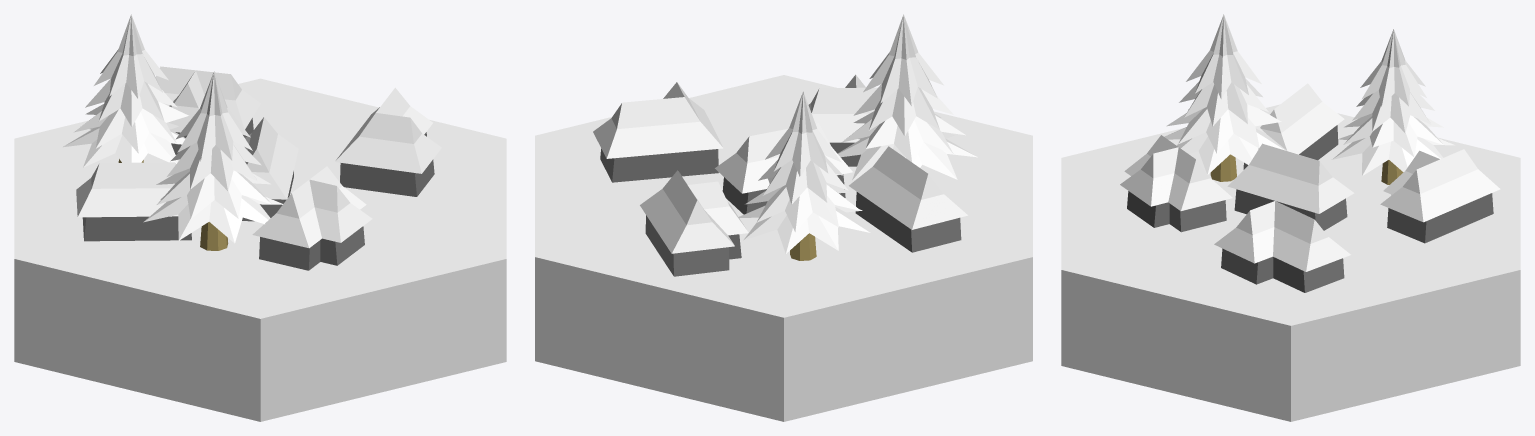
The model's file is Casas_Bosque_Pinos_Nieve_5.fbx.
3 renders of one model, left to right at view 1: azimuth 30°, elevation 25°; view 2: azimuth 150°, elevation 25°; view 3: azimuth 270°, elevation 25°, orthographic. The views are drawn at different scales.
Parts seen in each view (by area): view 1: Casas_Bosque_Pinos_Nieve_5; view 2: Casas_Bosque_Pinos_Nieve_5; view 3: Casas_Bosque_Pinos_Nieve_5.
Boxes of the visible parts, box(x1,y1,x2,y2) form: Casas_Bosque_Pinos_Nieve_5: box(14, 14, 506, 421); Casas_Bosque_Pinos_Nieve_5: box(535, 14, 1032, 421); Casas_Bosque_Pinos_Nieve_5: box(1061, 14, 1520, 421).
Bounding box in the file's own units: 200 × 108 × 173.
